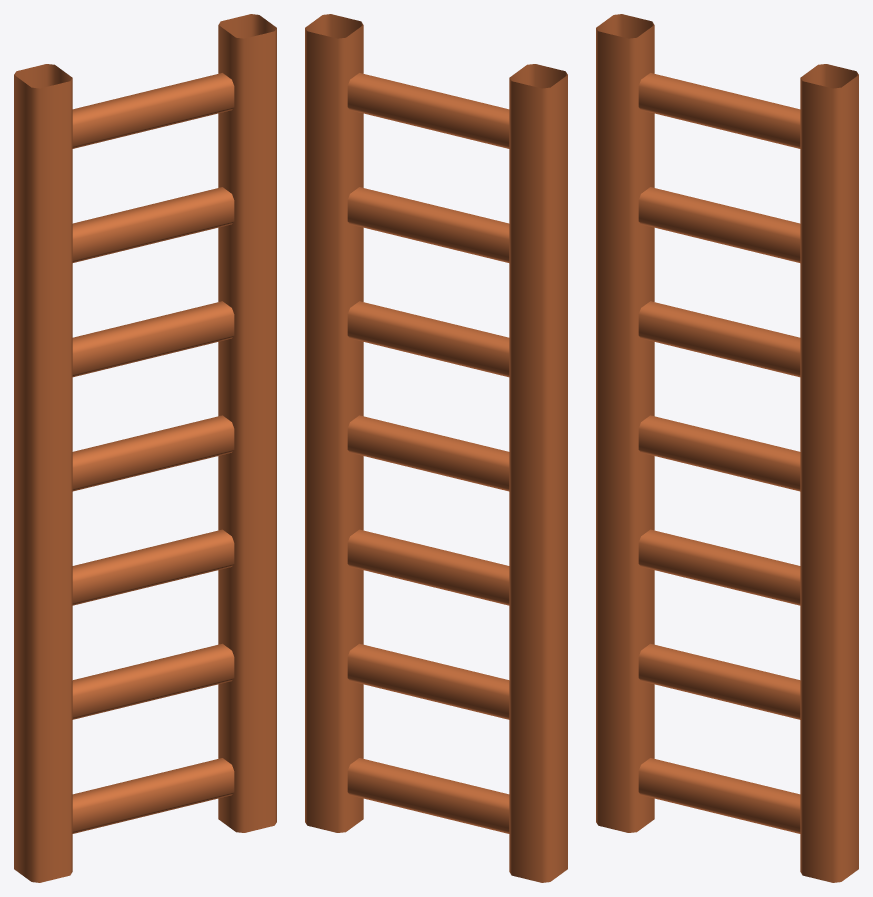
File: platform_kit023.fbx
3 views of the same model, side by side, from view 1: azimuth 30°, elevation 25°; view 2: azimuth 150°, elevation 25°; view 3: azimuth 330°, elevation 25° (orthographic).
Parts seen in each view (by area): view 1: platform_kit023; view 2: platform_kit023; view 3: platform_kit023.
Part boxes in pixels (left/top/right/bottom): platform_kit023: left=14, top=14, right=276, bottom=882; platform_kit023: left=305, top=14, right=567, bottom=882; platform_kit023: left=596, top=14, right=858, bottom=882.
Bounding box in the file's own units: 64.63 × 200 × 10.78.
1 material, 1 textured.
